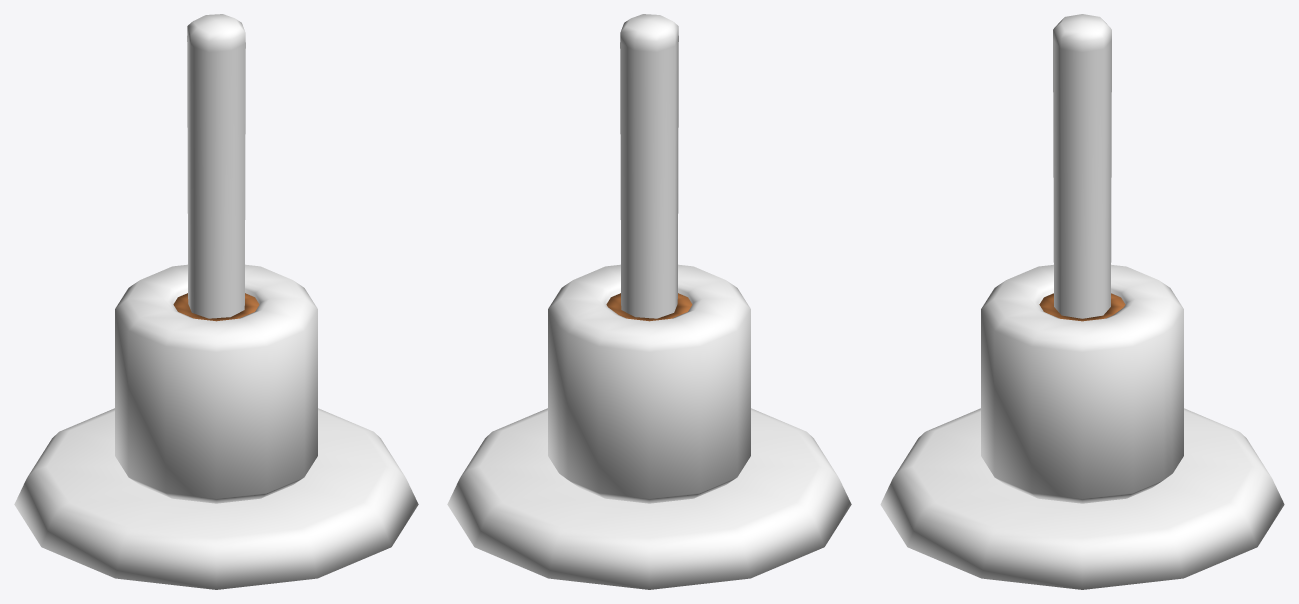
The model's file is ToiletPaperHolder.fbx.
3 renders of one model, left to right at view 1: azimuth 30°, elevation 25°; view 2: azimuth 150°, elevation 25°; view 3: azimuth 270°, elevation 25°, orthographic.
Visible parts, largest first — view 1: ToiletPaperHolder, ToiletPaper; view 2: ToiletPaperHolder, ToiletPaper; view 3: ToiletPaperHolder, ToiletPaper.
Part boxes in pixels (x1=…): ToiletPaperHolder: x1=14, y1=14, x2=418, y2=589; ToiletPaper: x1=115, y1=264, x2=317, y2=503; ToiletPaperHolder: x1=447, y1=14, x2=851, y2=589; ToiletPaper: x1=548, y1=264, x2=750, y2=503; ToiletPaperHolder: x1=880, y1=14, x2=1284, y2=589; ToiletPaper: x1=981, y1=264, x2=1183, y2=503.
Bounding box in the file's own units: 1.16 × 0.875 × 0.875.
